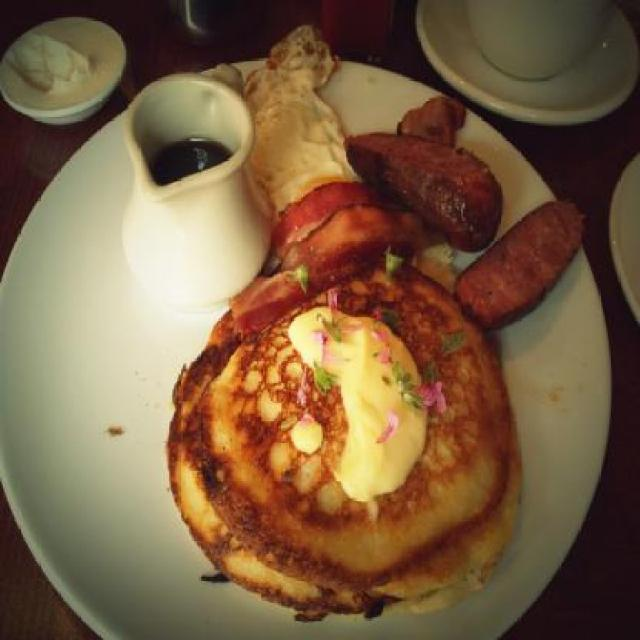Pancake: (167, 274, 516, 638)
